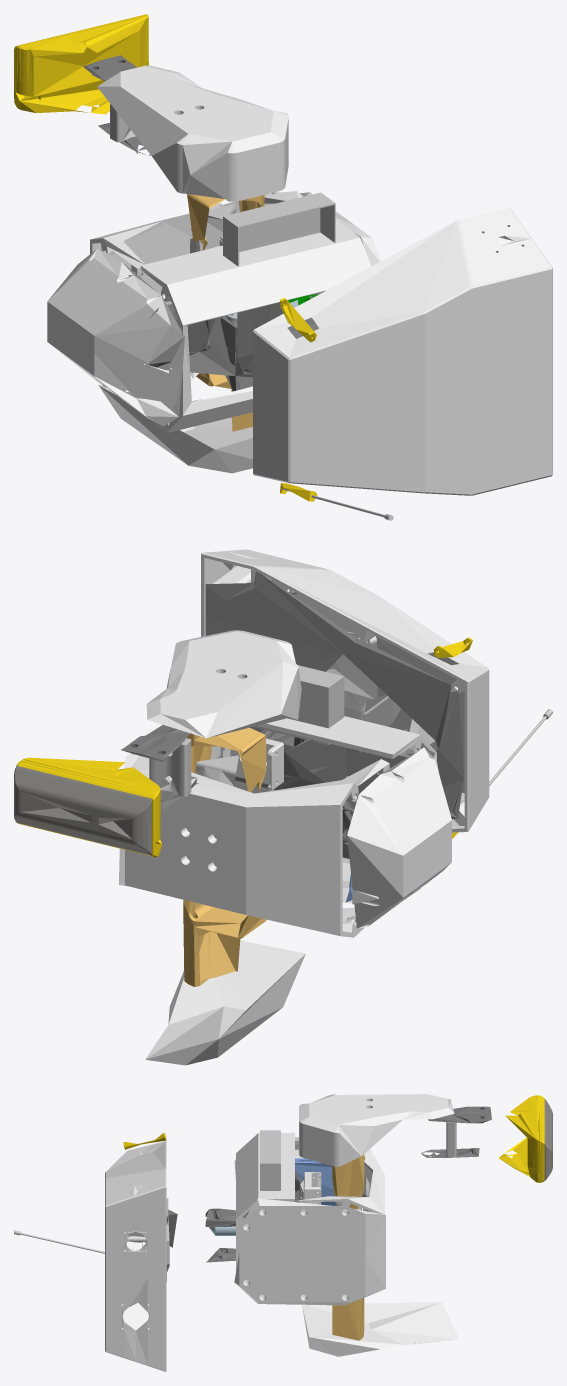
File: openduck.glb
3 renders of one model, top to bottom at view 1: azimuth 30°, elevation 25°; view 2: azimuth 150°, elevation 25°; view 3: azimuth 270°, elevation 25°, orthographic. The views are drawn at different scales.
Parts seen in each view (by area): view 1: head.stl, left_cache.stl, body_back.stl, body_middle_top.stl, foot_top.stl, right_cache.stl, holder.stl, body_middle_bottom.stl, trunk_top.stl, foot_side.stl, left_roll_to_pitch.stl, roll_motor_bottom.stl (+4 smaller); view 2: body_middle_bottom.stl, head.stl, head_bot_sheet.stl, body_back.stl, left_cache.stl, right_cache.stl, foot_bottom_tpu.stl, right_roll_to_pitch.stl, body_middle_top.stl, foot_top.stl, trunk_top.stl, holder.stl (+7 smaller); view 3: body_front.stl, head.stl, left_cache.stl, right_cache.stl, body_middle_top.stl, foot_top.stl, body_middle_bottom.stl, holder.stl, left_roll_to_pitch.stl, right_roll_to_pitch.stl, battery_pack_lid.stl, foot_side.stl (+6 smaller).
Boxes of the visible parts, x1,y1,x2,y2 form: head.stl: (253, 207, 552, 495); left_cache.stl: (97, 65, 288, 201); body_back.stl: (47, 248, 184, 426); body_middle_top.stl: (141, 220, 371, 432); foot_top.stl: (14, 14, 148, 96); right_cache.stl: (98, 385, 252, 473); holder.stl: (223, 192, 335, 266); body_middle_bottom.stl: (90, 191, 302, 387); trunk_top.stl: (154, 302, 283, 391); foot_side.stl: (14, 62, 148, 114); left_roll_to_pitch.stl: (187, 194, 264, 250); roll_motor_bottom.stl: (196, 203, 235, 251); body_middle_bottom.stl: (125, 755, 389, 937); head.stl: (201, 549, 489, 832); head_bot_sheet.stl: (205, 571, 463, 818); body_back.stl: (347, 747, 451, 928); left_cache.stl: (146, 630, 301, 738); right_cache.stl: (145, 940, 305, 1065); foot_bottom_tpu.stl: (14, 766, 151, 855); right_roll_to_pitch.stl: (183, 899, 266, 986); body_middle_top.stl: (257, 716, 436, 903); foot_top.stl: (16, 757, 160, 843); trunk_top.stl: (217, 737, 358, 858); holder.stl: (253, 665, 344, 745); body_front.stl: (234, 1198, 385, 1305); head.stl: (105, 1141, 166, 1371); left_cache.stl: (299, 1094, 454, 1166); right_cache.stl: (302, 1302, 458, 1356); body_middle_top.stl: (236, 1133, 294, 1270); foot_top.stl: (505, 1095, 544, 1172); body_middle_bottom.stl: (295, 1148, 384, 1214); holder.stl: (260, 1130, 280, 1190); left_roll_to_pitch.stl: (332, 1154, 364, 1209); right_roll_to_pitch.stl: (332, 1298, 364, 1340); battery_pack_lid.stl: (295, 1158, 337, 1205); foot_side.stl: (499, 1137, 544, 1182).
Bounding box in the file's own units: 0.255 × 0.2461 × 0.5181.
